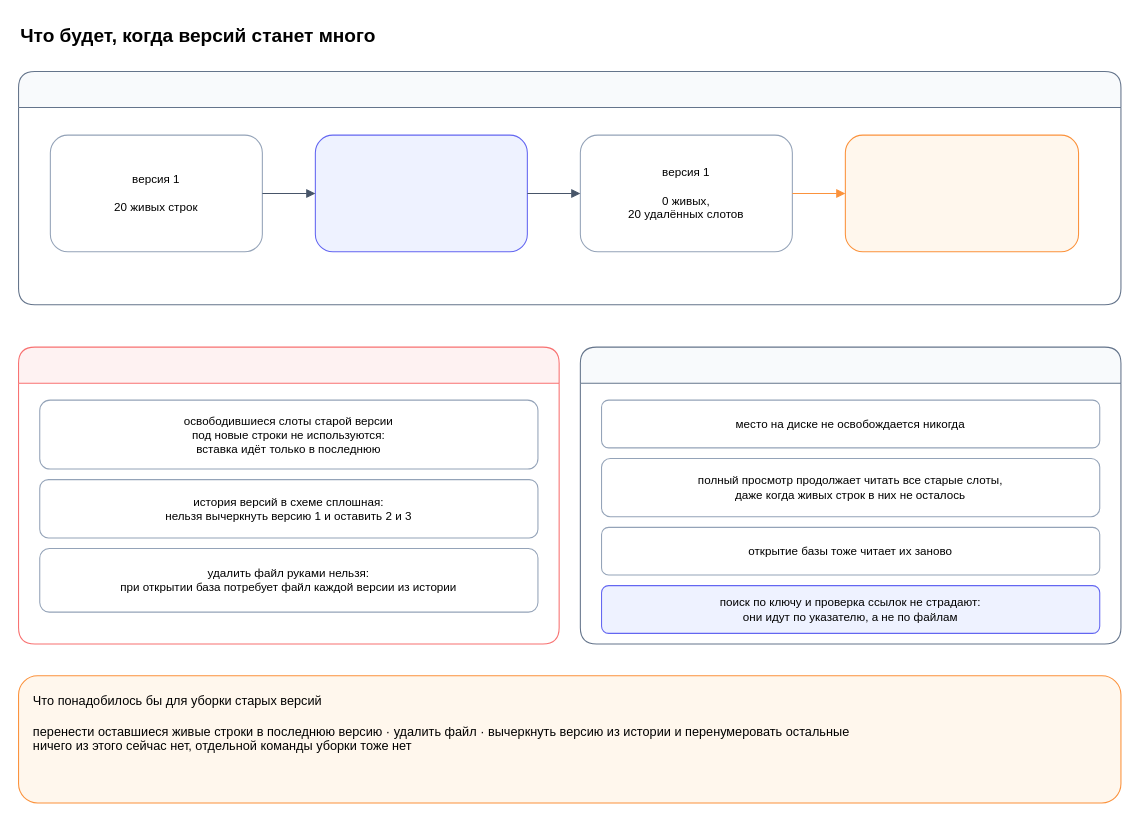
The diagram is 1139 pixels wide and 821 high, and some of its shapes have lost their labels. Each missing label, with the box of its shape:
Во что это обходится: (579, 346, 1121, 644)
Как версия пустеет: (17, 70, 1121, 305)
Почему пустая версия не исчезает сама: (17, 346, 559, 644)
строки изменяют или удаляют изменённые уезжают в последнюю версию: (314, 134, 527, 252)
файл остаётся прежнего размера и читается при каждом полном просмотре: (844, 134, 1079, 252)
